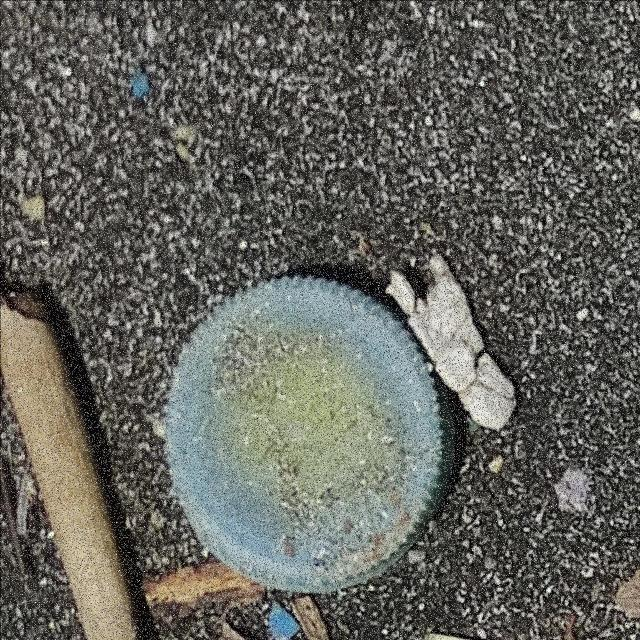plastic_waste: (159, 270, 451, 593)
wood_waste: (1, 285, 143, 640)
